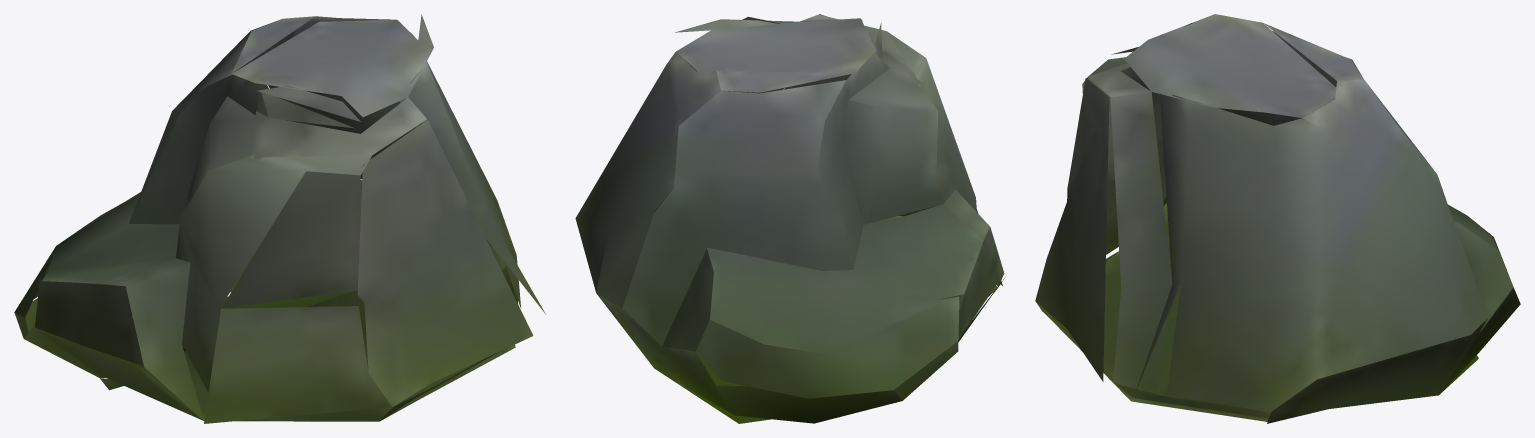
File: batu-1-lod.glb
3 renders of one model, left to right at view 1: azimuth 30°, elevation 25°; view 2: azimuth 150°, elevation 25°; view 3: azimuth 270°, elevation 25°, orthographic. The views are drawn at different scales.
Parts seen in each view (by area): view 1: Rock_Medium_1; view 2: Rock_Medium_1; view 3: Rock_Medium_1.
Boxes of the visible parts, bbox=[...] form: Rock_Medium_1: bbox=[14, 14, 545, 423]; Rock_Medium_1: bbox=[575, 14, 1004, 423]; Rock_Medium_1: bbox=[1035, 14, 1520, 423].
Bounding box in the file's own units: 2.01 × 1.43 × 1.88.
1 material, 1 textured.
